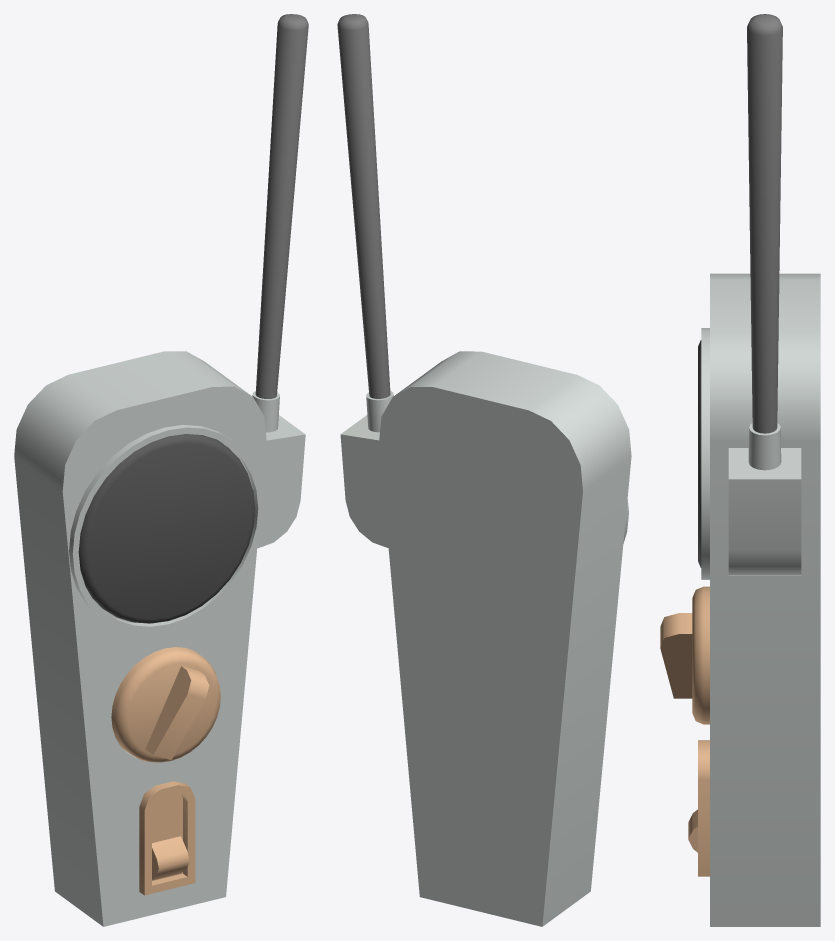
File: SpaceWalkieTalkieExport.fbx
3 views of the same model, side by side, from view 1: azimuth 30°, elevation 25°; view 2: azimuth 150°, elevation 25°; view 3: azimuth 270°, elevation 25° (orthographic). The views are drawn at different scales.
Visible parts, largest first — view 1: Cube; view 2: Cube; view 3: Cube.
Boxes of the visible parts, x1,y1,x2,y2 form: Cube: (14,14,308,926); Cube: (337,14,631,926); Cube: (660,14,820,926).
Size of the model in its own units: 109 by 327 by 49.66.
